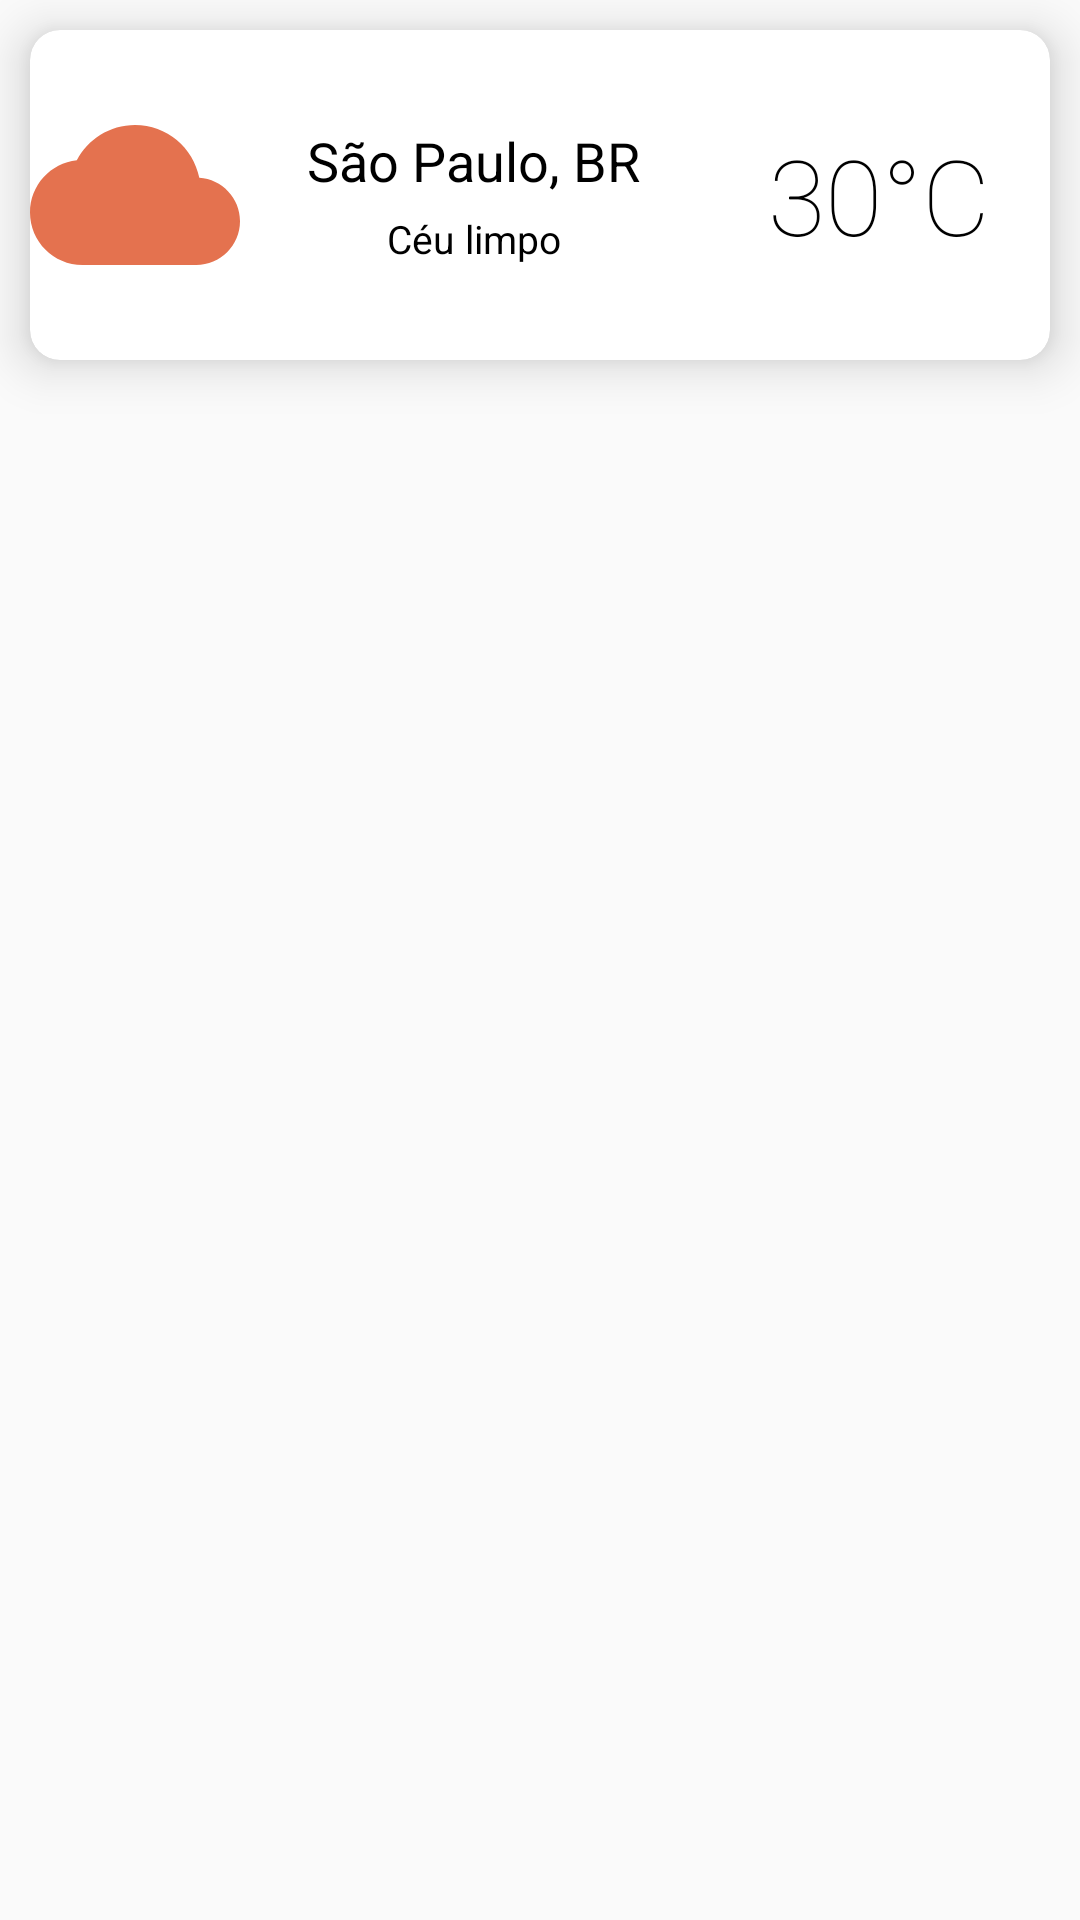

Named icons in this screenshot (1080 x 1920) and their centers, (x=x, y=y):
weather: (x=135, y=195)
